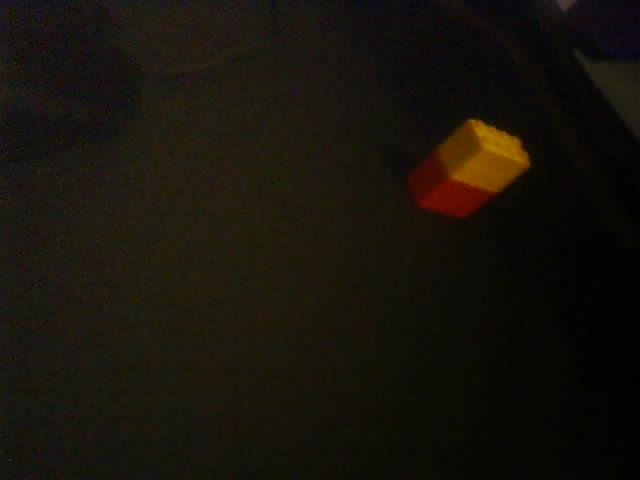lego: (406, 118, 533, 219)
